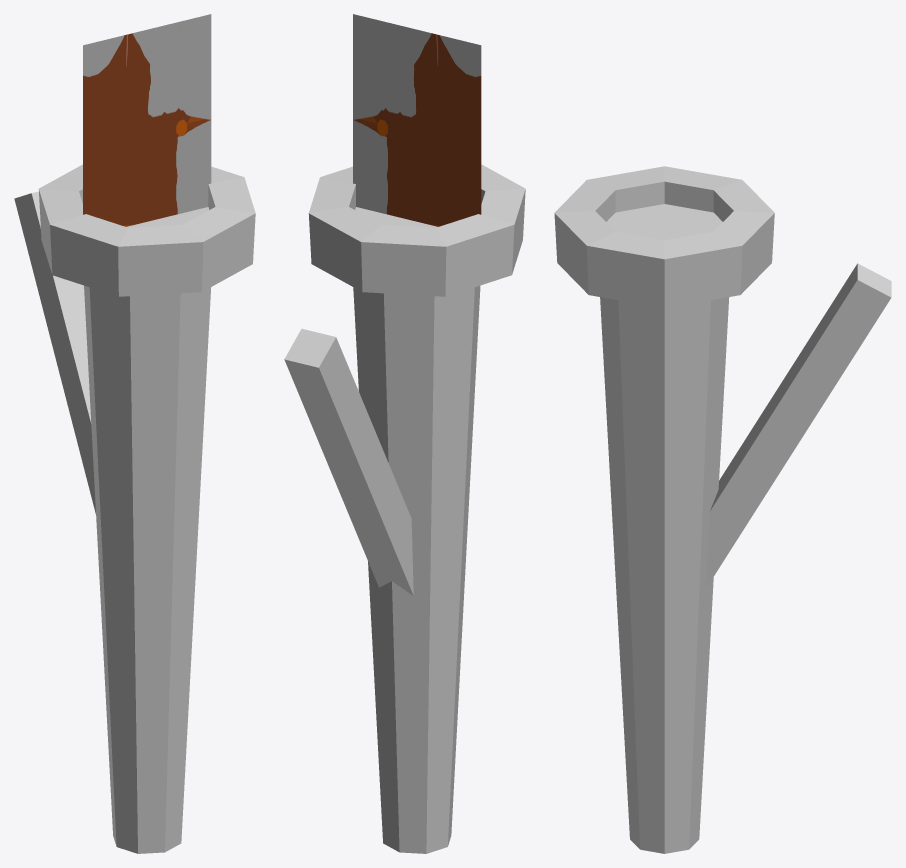
File: Torch_Wall.fbx
3 views of the same model, side by side, from view 1: azimuth 30°, elevation 25°; view 2: azimuth 150°, elevation 25°; view 3: azimuth 270°, elevation 25° (orthographic).
Visible parts, largest first — view 1: Torch, Fire; view 2: Torch, Fire; view 3: Torch.
Part boxes in pixels (x1,y1,x2,y2): Torch: (14, 164, 255, 853); Fire: (83, 14, 211, 226); Torch: (284, 164, 525, 853); Fire: (353, 14, 481, 226); Torch: (554, 166, 891, 853).
Size of the model in its own units: 0.2383 by 0.9484 by 0.3646.
